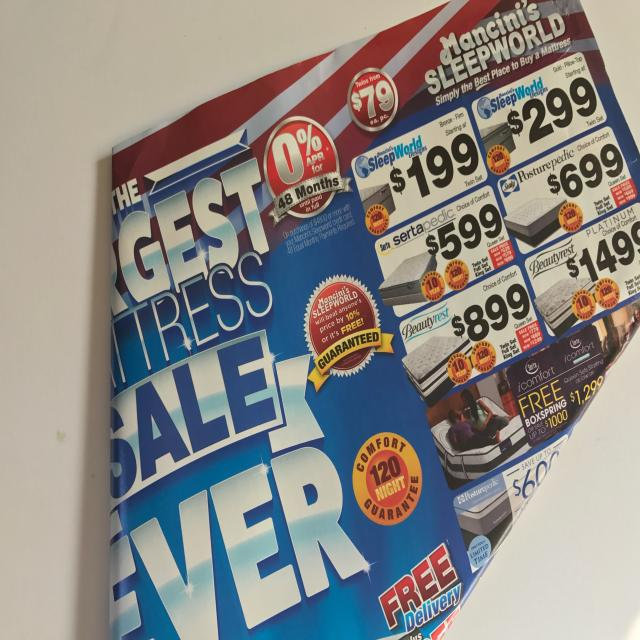paper: (107, 0, 639, 639)
